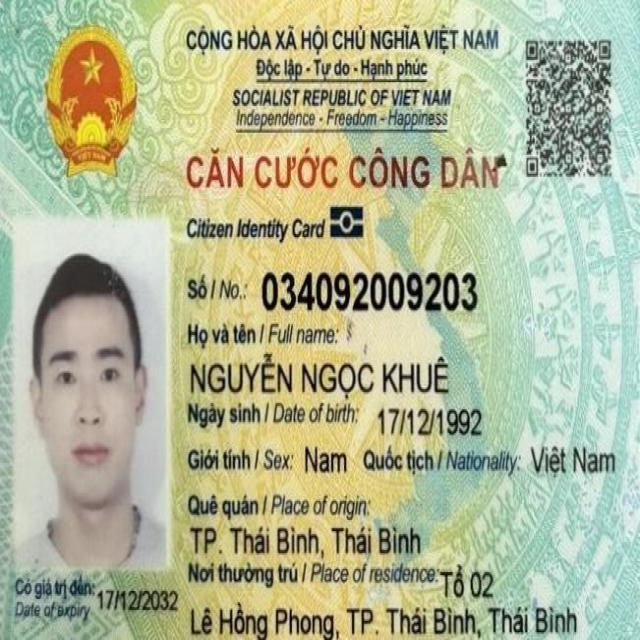current_place: (189, 600, 578, 640), (440, 562, 494, 602)
dob: (378, 407, 483, 439)
expire_date: (96, 587, 180, 612)
gender: (304, 445, 349, 476)
id: (260, 270, 480, 313)
name: (188, 350, 452, 398)
nationality: (531, 443, 616, 481)
origin_place: (190, 524, 424, 559)
